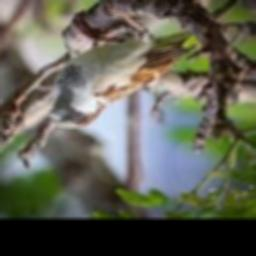Sparrow: (48, 6, 196, 129)
